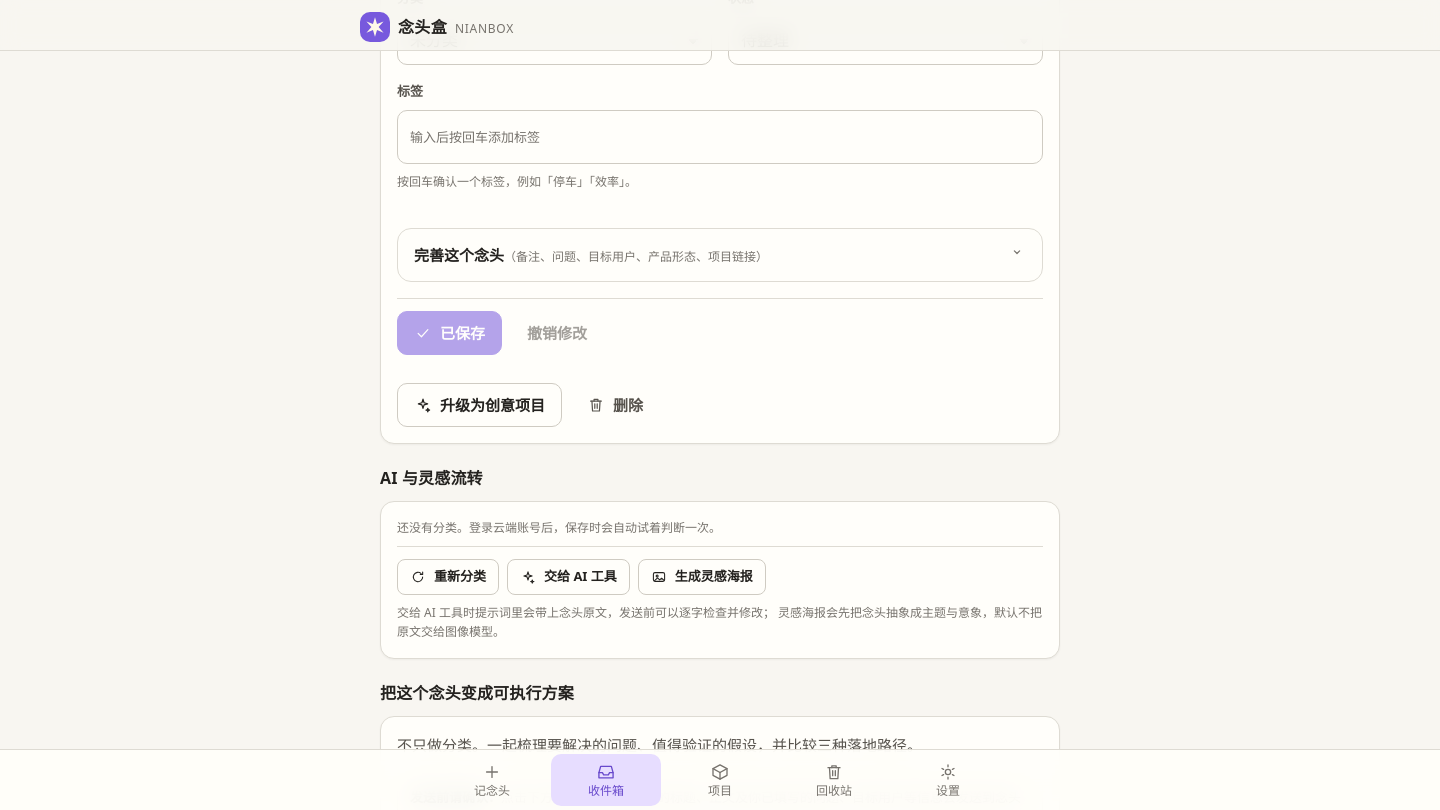
Test: 创意项目 › 升级为项目后，项目依然关联着原始念头
The image size is (1440, 810).
(page scrolled)
Click the button "升级为创意项目". click: click(480, 405)
box: [397,383,562,427]
(page scrolled)
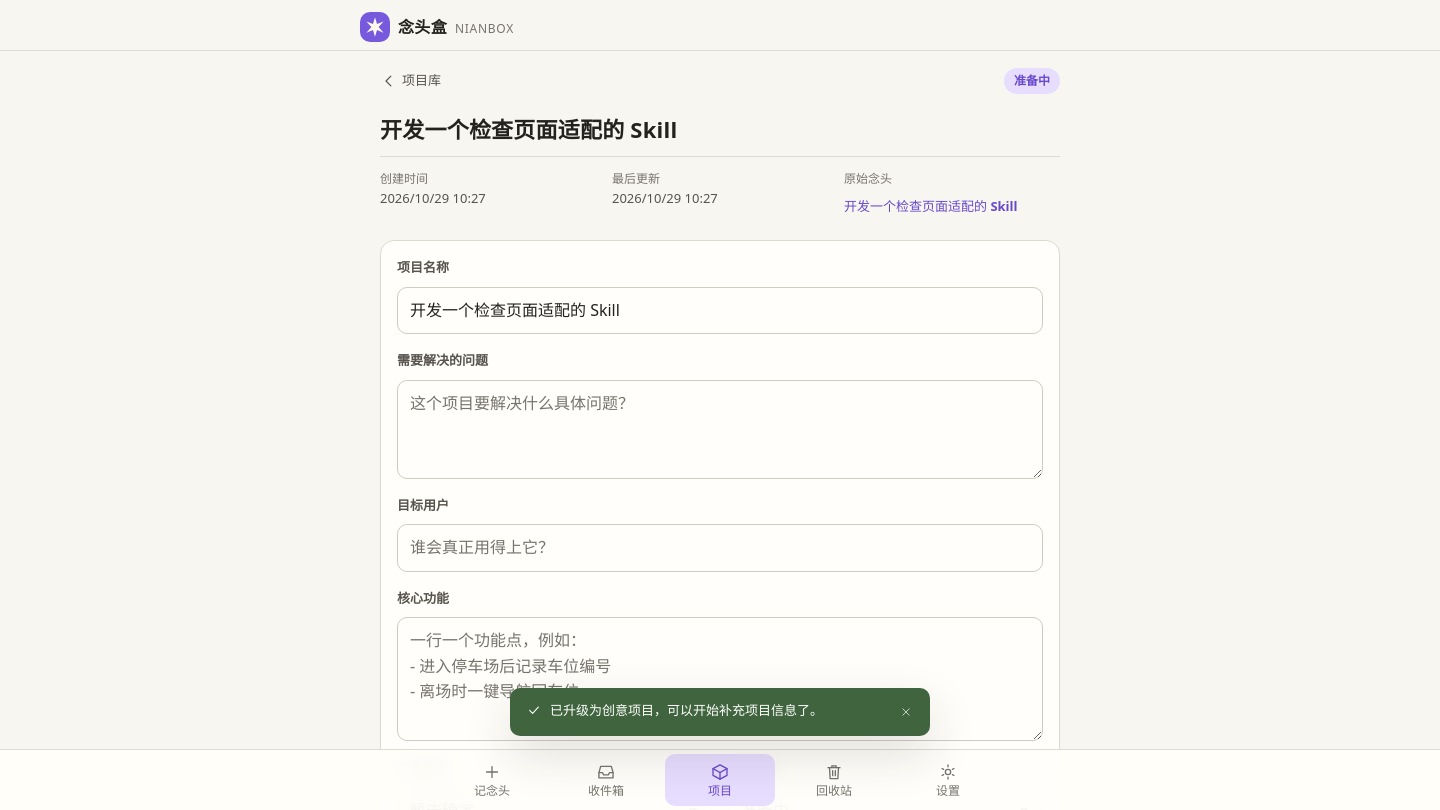
Check: the heading "开发一个检查页面适配的 Skill" is shown, box [380,114,677,144]
Check: the button "开发一个检查页面适配的 Skill" is shown, box [844,188,1018,224]
